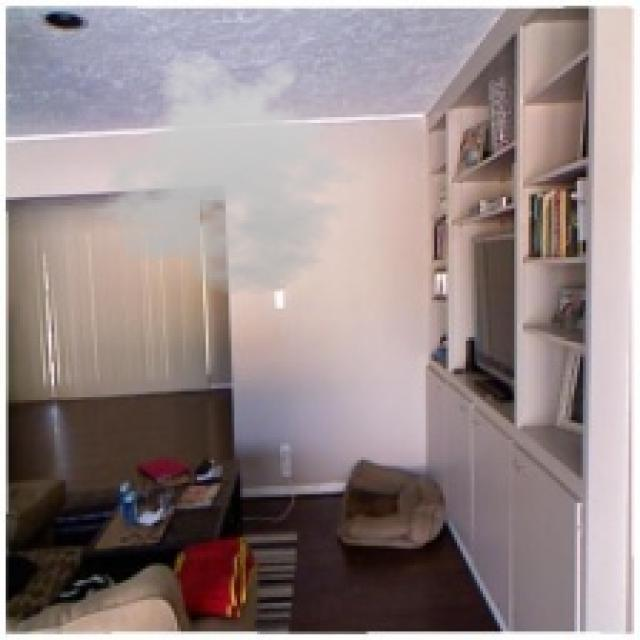Smoke: (94, 51, 377, 298)
